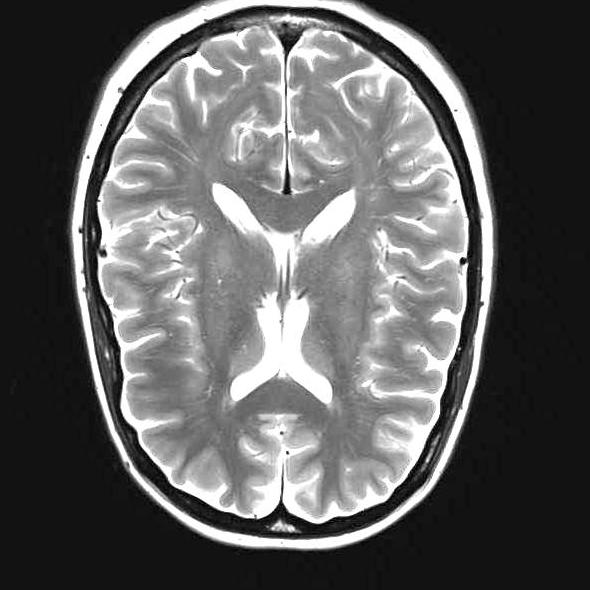Normal_Brain: (1, 1, 543, 590)
